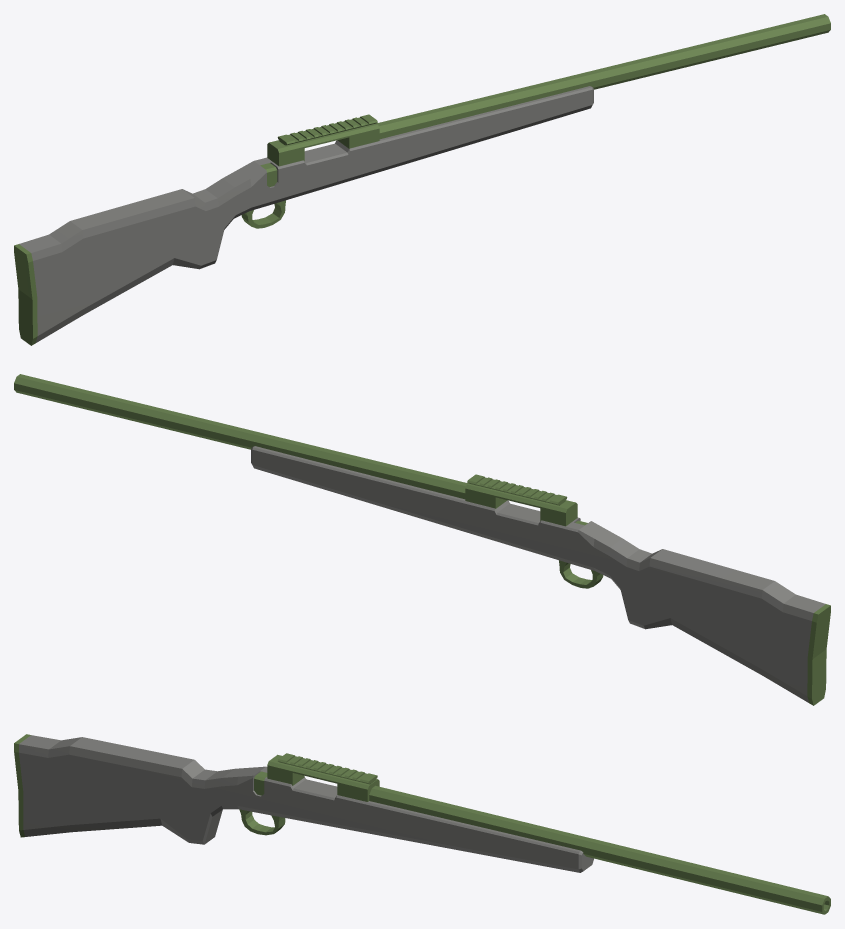
The model's file is SniperRifle3_05.fbx.
3 renders of one model, top to bottom at view 1: azimuth 30°, elevation 25°; view 2: azimuth 150°, elevation 25°; view 3: azimuth 330°, elevation 25°, orthographic.
Parts seen in each view (by area): view 1: SniperRifle3_05; view 2: SniperRifle3_05; view 3: SniperRifle3_05.
Boxes of the visible parts, x1,y1,x2,y2 form: SniperRifle3_05: (14,14,830,345); SniperRifle3_05: (14,374,830,705); SniperRifle3_05: (14,734,830,914).
Size of the model in its own units: 1.22 by 0.2029 by 0.0371.
